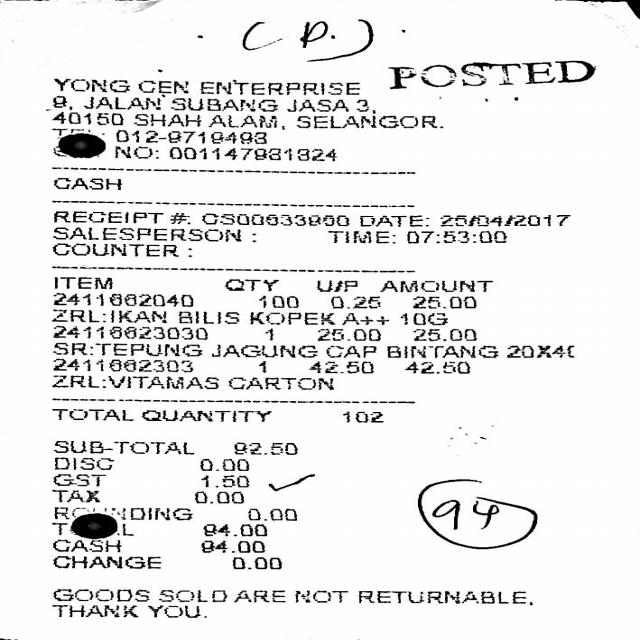text: (52, 226, 254, 241), (358, 590, 532, 604), (168, 146, 334, 160), (51, 324, 206, 338), (52, 375, 218, 388), (116, 129, 266, 143), (52, 342, 202, 356), (198, 82, 358, 95), (296, 114, 435, 128), (51, 358, 190, 372), (54, 292, 192, 306), (202, 212, 348, 225), (52, 243, 190, 256), (54, 440, 192, 453), (51, 308, 166, 322), (140, 409, 270, 421), (386, 344, 496, 358), (52, 554, 160, 568), (52, 210, 162, 223), (440, 214, 570, 225), (170, 98, 277, 111), (210, 344, 316, 357), (227, 376, 332, 389), (378, 280, 490, 291), (406, 230, 506, 242), (51, 589, 148, 601), (208, 114, 284, 129), (104, 507, 190, 520), (51, 604, 137, 617), (81, 96, 160, 109), (249, 312, 334, 324), (51, 408, 132, 420), (53, 78, 122, 92), (51, 112, 120, 125), (52, 539, 120, 552), (357, 214, 428, 226), (177, 310, 237, 324), (156, 590, 226, 602), (412, 328, 476, 341), (308, 360, 372, 373), (404, 360, 468, 373), (202, 523, 266, 536), (316, 328, 379, 341), (53, 177, 121, 189), (326, 230, 394, 242), (132, 114, 198, 126), (507, 344, 572, 356), (232, 442, 297, 454), (53, 456, 113, 469), (412, 296, 476, 308), (200, 540, 264, 552), (147, 605, 205, 618), (286, 100, 347, 112), (52, 276, 111, 288), (52, 474, 106, 486), (294, 590, 348, 602), (224, 278, 277, 290), (200, 474, 248, 487), (233, 590, 284, 602), (137, 80, 187, 92), (325, 344, 375, 356), (193, 491, 243, 503), (232, 556, 282, 568), (330, 296, 379, 308), (199, 458, 248, 470), (247, 508, 296, 520), (398, 313, 446, 325), (114, 145, 157, 158), (52, 489, 98, 501), (52, 506, 94, 519), (342, 313, 386, 325), (258, 295, 297, 308), (314, 279, 356, 291), (342, 411, 382, 422), (50, 95, 72, 108), (354, 99, 374, 112), (168, 212, 189, 224), (118, 522, 132, 536), (51, 522, 66, 534), (264, 328, 272, 339), (258, 361, 265, 371)
